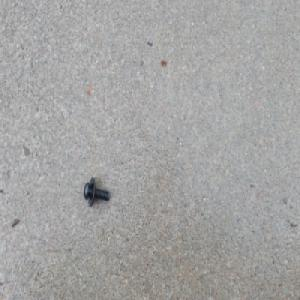BoltWasher: (82, 176, 109, 206)
